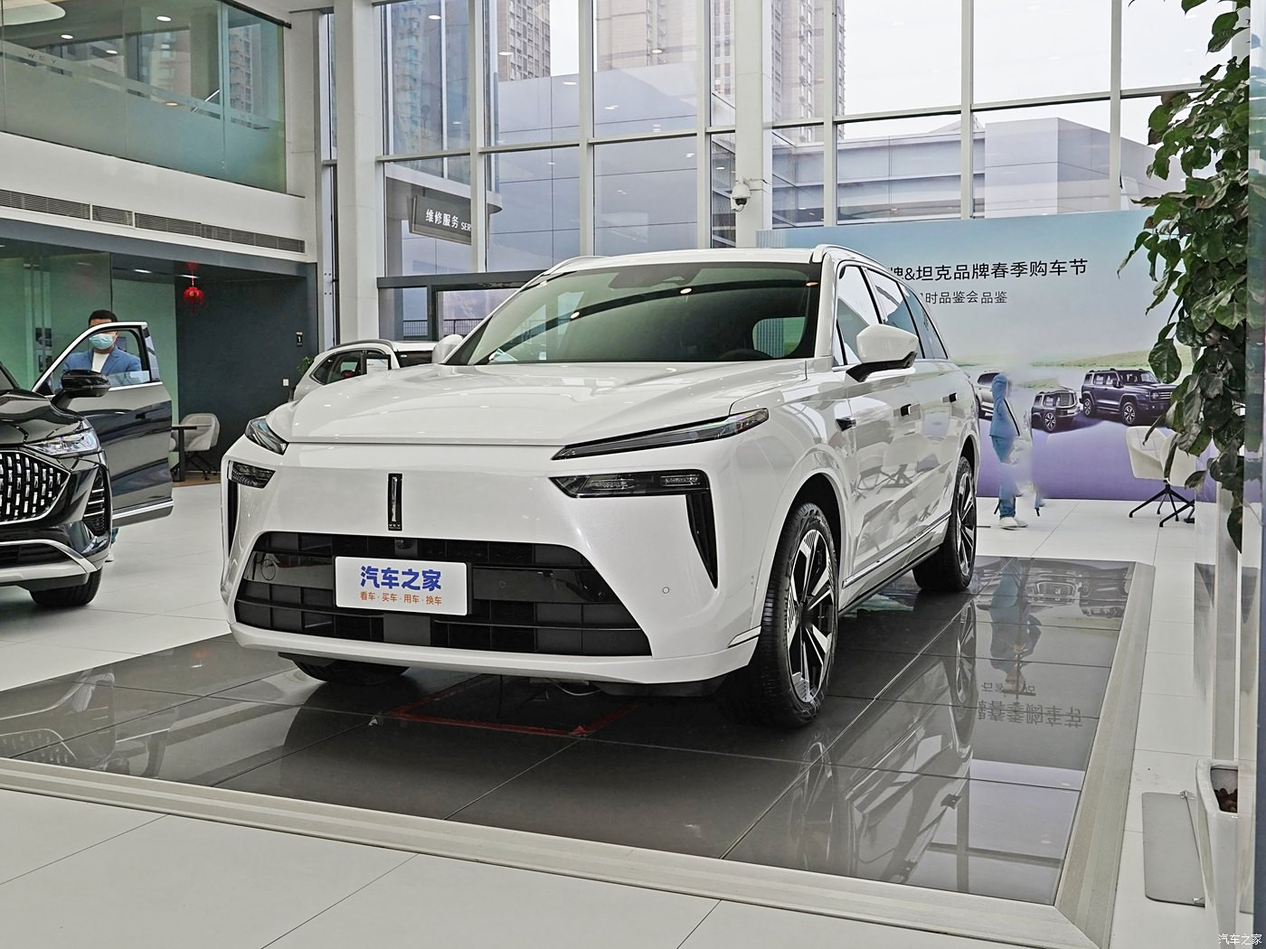WEY: (388, 474, 402, 530)
